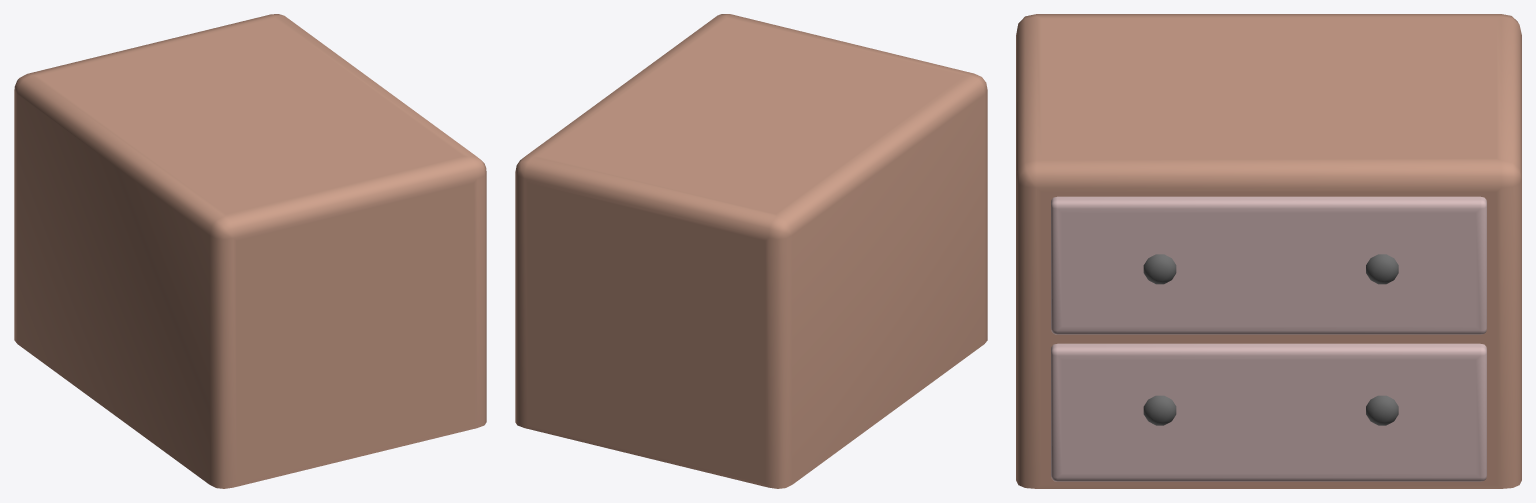
The model's file is Nightstand.FBX.
3 renders of one model, left to right at view 1: azimuth 30°, elevation 25°; view 2: azimuth 150°, elevation 25°; view 3: azimuth 270°, elevation 25°, orthographic. The views are drawn at different scales.
Visible parts, largest first — view 1: Nightstand; view 2: Nightstand; view 3: Nightstand.
Boxes of the visible parts, <box> form: Nightstand: <box>14,14,486,488</box>; Nightstand: <box>515,14,987,488</box>; Nightstand: <box>1016,14,1521,488</box>.
Size of the model in its own units: 14.64 by 12.71 by 18.22.
